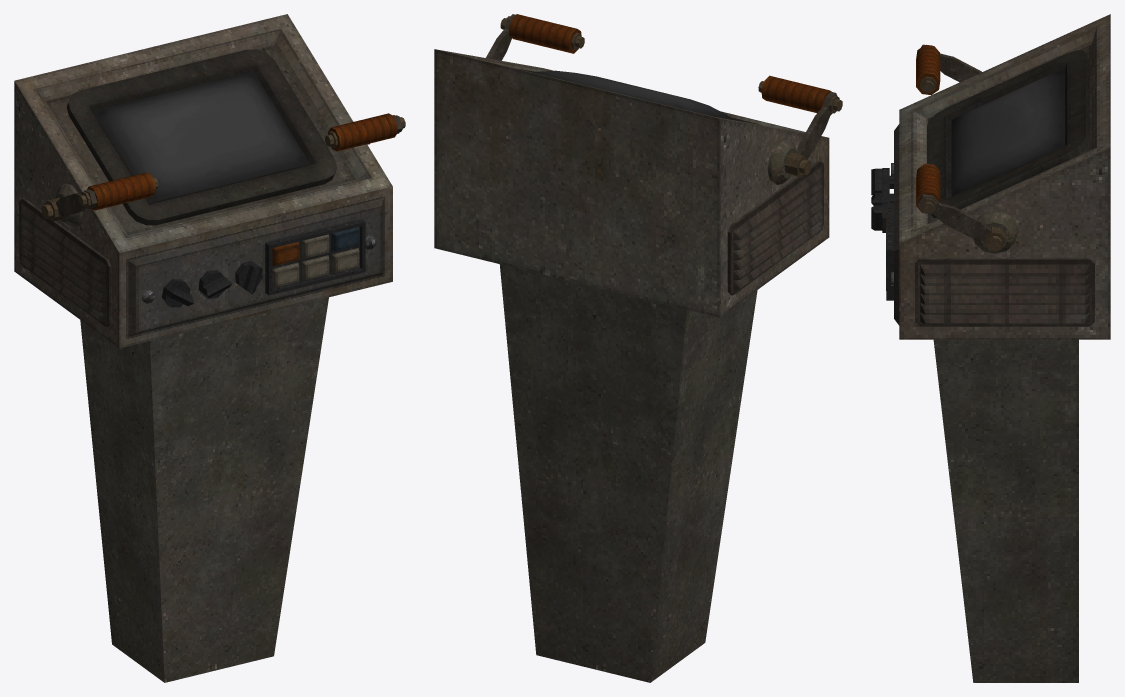
The model's file is control_panel_etx_1.glb.
3 renders of one model, left to right at view 1: azimuth 30°, elevation 25°; view 2: azimuth 150°, elevation 25°; view 3: azimuth 270°, elevation 25°, orthographic. The views are drawn at different scales.
Visible parts, largest first — view 1: control_panel_etx_1, control_panel_etx_1_round_screen, control_panel_etx_1_knob_child; view 2: control_panel_etx_1, control_panel_etx_1_round_screen; view 3: control_panel_etx_1, control_panel_etx_1_round_screen, control_panel_etx_1_knob_child.
Part boxes in pixels (<box>): control_panel_etx_1: <box>14,14,405,682</box>; control_panel_etx_1_round_screen: <box>93,71,309,202</box>; control_panel_etx_1_knob_child: <box>161,279,193,307</box>; control_panel_etx_1: <box>434,14,842,682</box>; control_panel_etx_1_round_screen: <box>532,70,733,119</box>; control_panel_etx_1: <box>871,14,1110,682</box>; control_panel_etx_1_round_screen: <box>951,69,1065,196</box>; control_panel_etx_1_knob_child: <box>871,168,893,195</box>.
Size of the model in its own units: 0.711 by 1.19 by 0.4485.
Materials: 2 (2 with a texture image).
